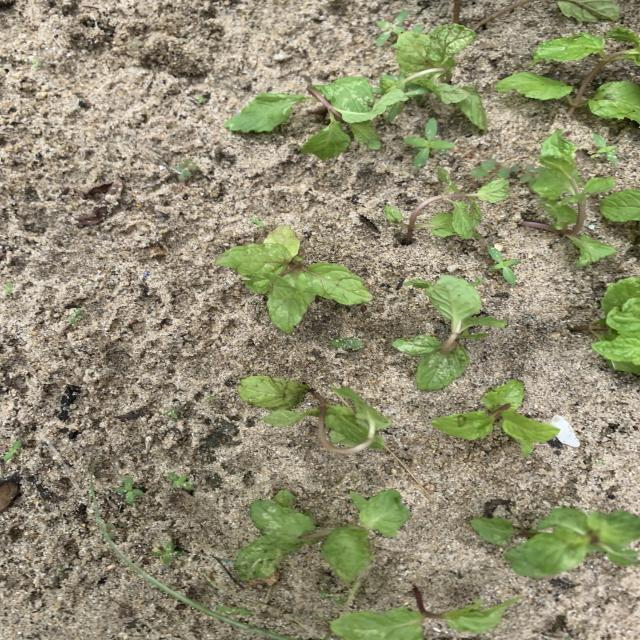crop: (217, 227, 371, 331), (497, 24, 639, 123), (393, 275, 505, 390), (225, 76, 381, 158), (524, 131, 615, 266), (375, 24, 485, 129), (238, 377, 391, 452), (433, 380, 559, 455), (331, 588, 516, 639), (507, 508, 639, 578), (384, 168, 508, 239), (236, 490, 327, 579), (574, 278, 639, 374), (471, 0, 535, 30), (557, 0, 619, 22), (602, 190, 639, 221), (452, 0, 461, 23)
weed: (92, 500, 291, 639), (404, 120, 454, 167), (376, 10, 408, 45), (489, 247, 519, 283), (471, 160, 513, 179), (590, 134, 617, 163), (116, 476, 143, 503), (152, 541, 183, 563), (513, 164, 542, 182), (167, 472, 194, 491), (176, 160, 198, 178), (331, 338, 363, 350), (3, 440, 21, 461), (217, 606, 251, 616), (320, 591, 344, 605), (69, 308, 83, 323), (251, 218, 264, 227), (165, 410, 178, 419), (473, 276, 482, 285)
